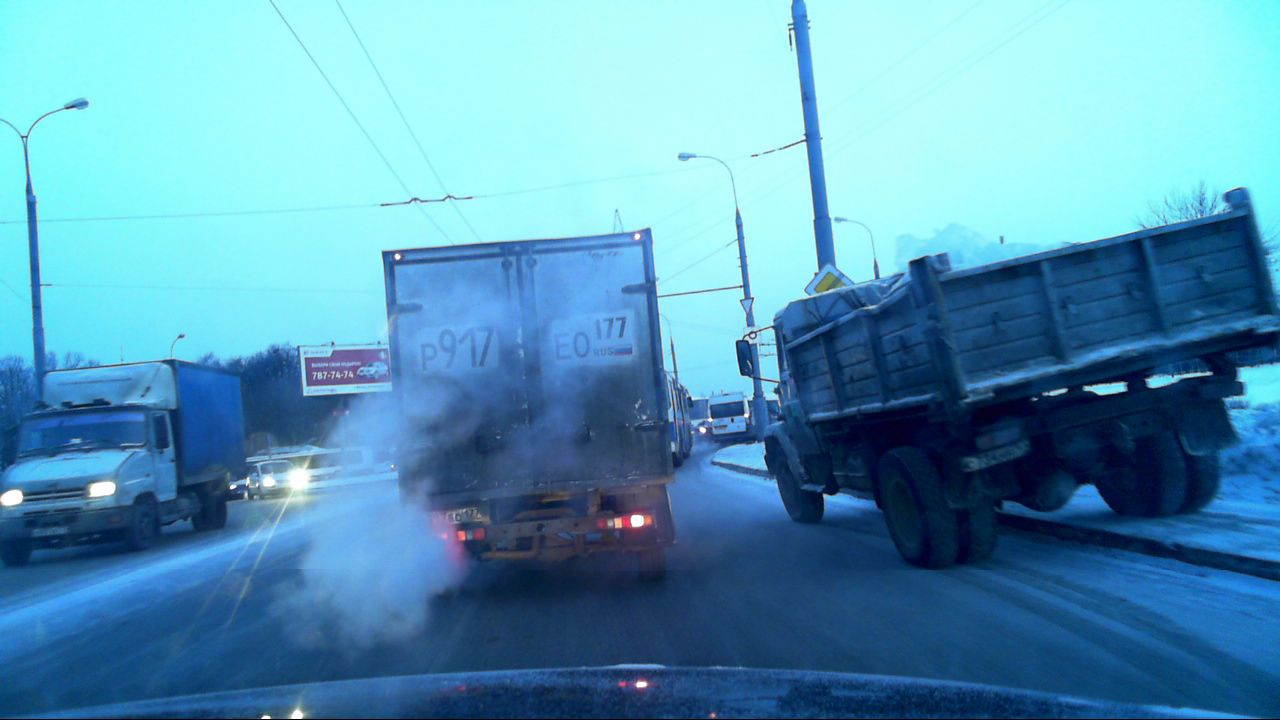main road: (805, 263, 855, 310)
